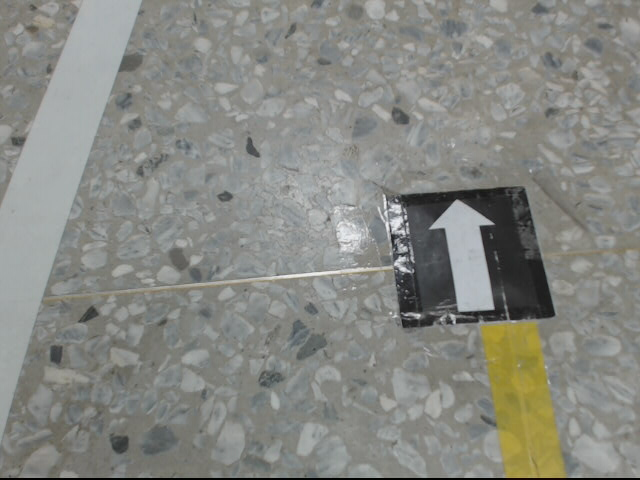straight: (385, 183, 560, 327)
